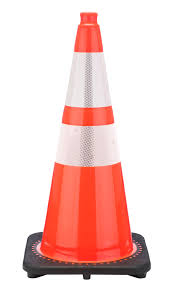cones: (24, 12, 152, 279)
